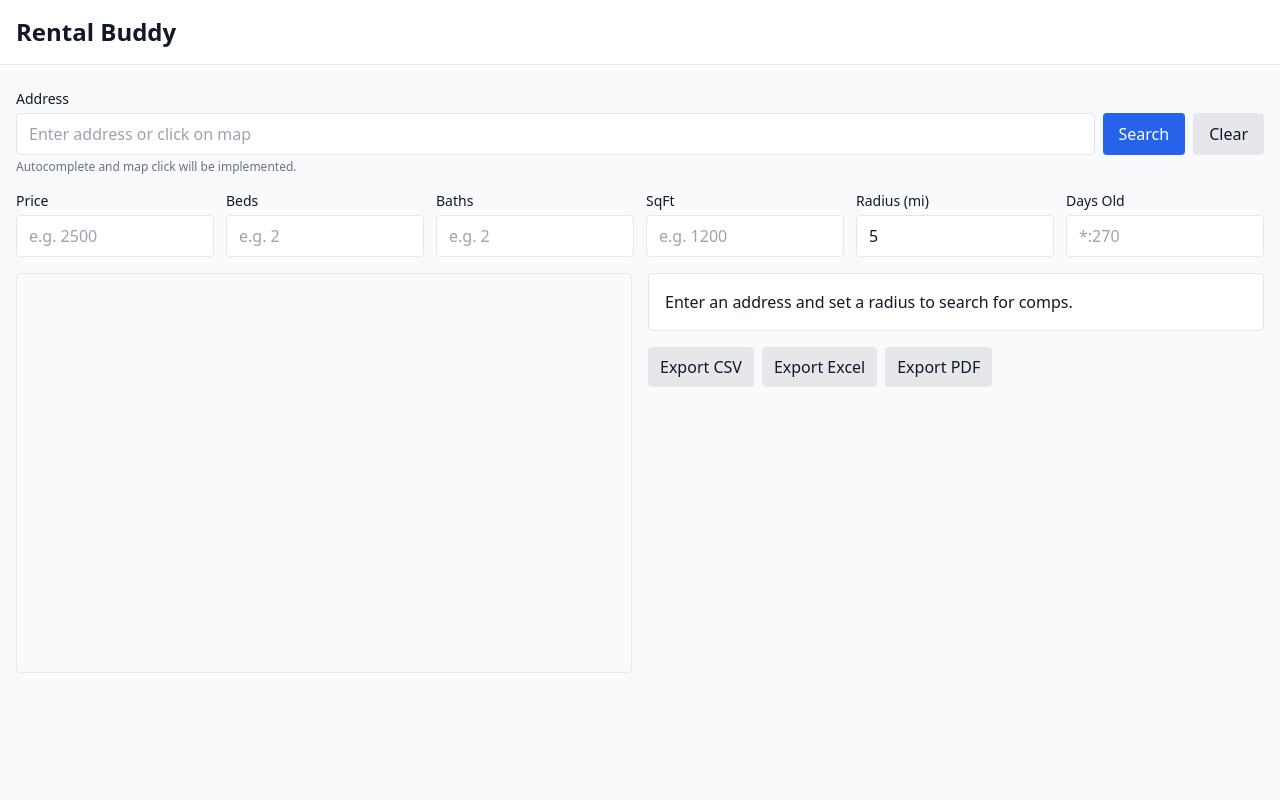
it: shows error state when API fails
The width and height of the screenshot is (1280, 800).
Type "error addr" into the field labelled "Address" at x=555, y=134, box [16,113,1094,155]
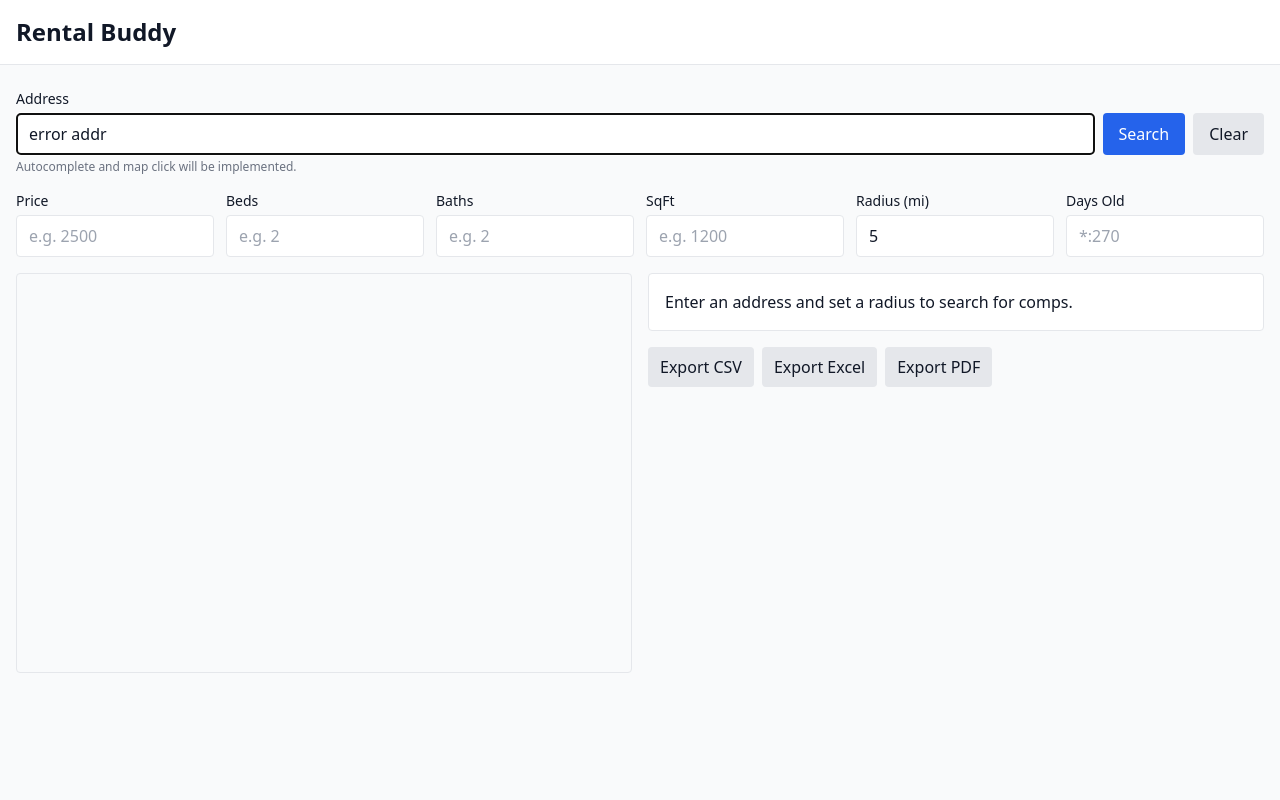
Click the button "Search" at x=1144, y=134, box [1102,113,1185,155]
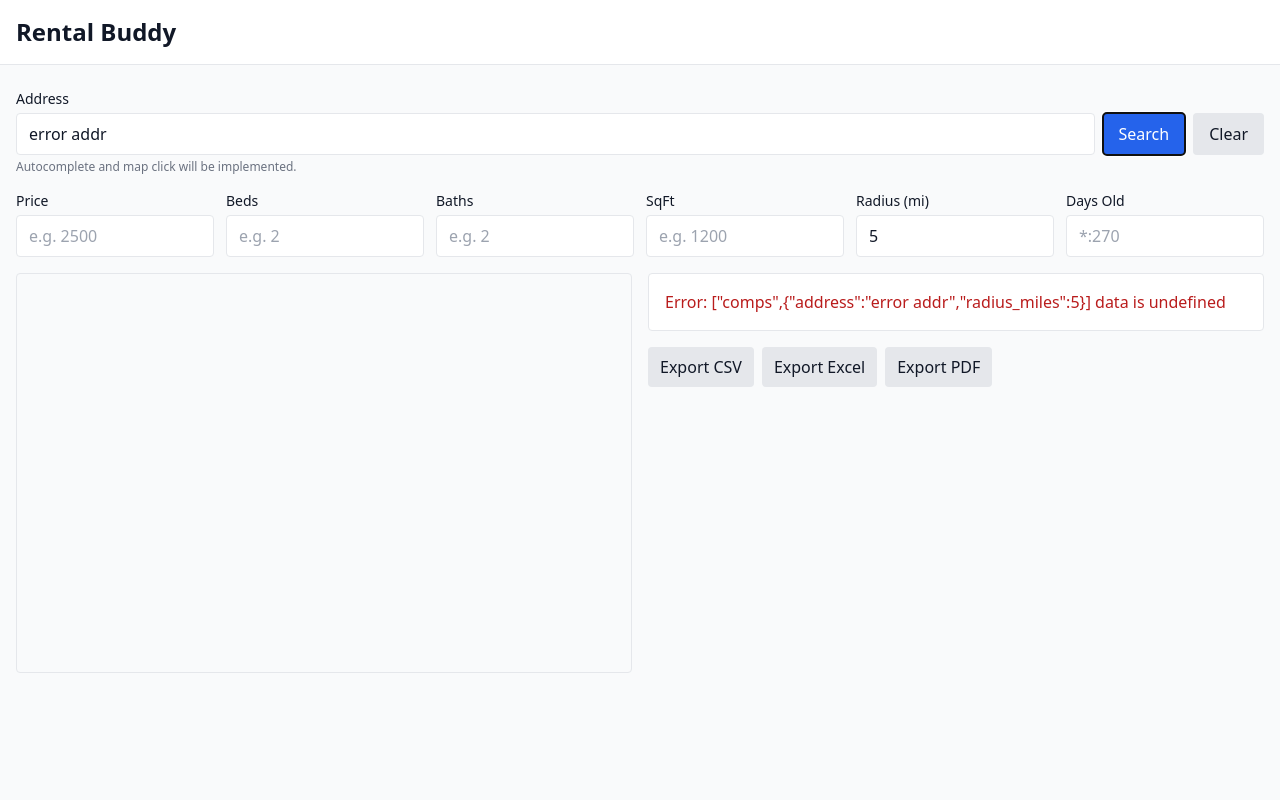
Result: the text "Error:" is shown at [665,291,712,313]
